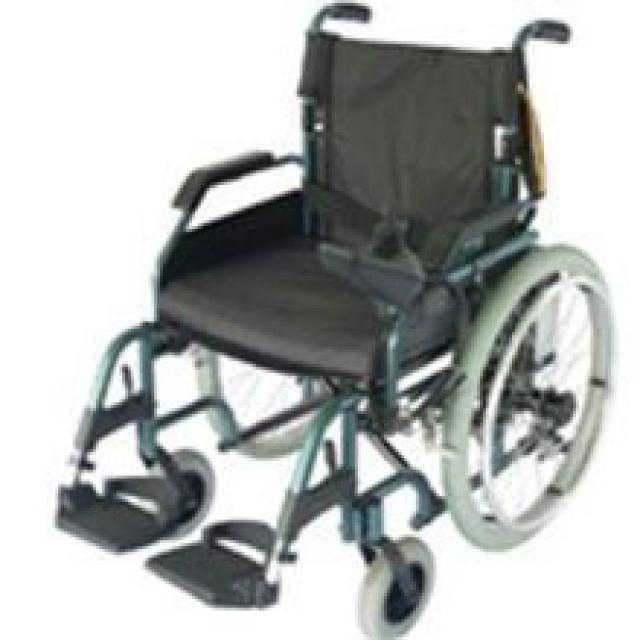wheelchair: (44, 6, 616, 637)
